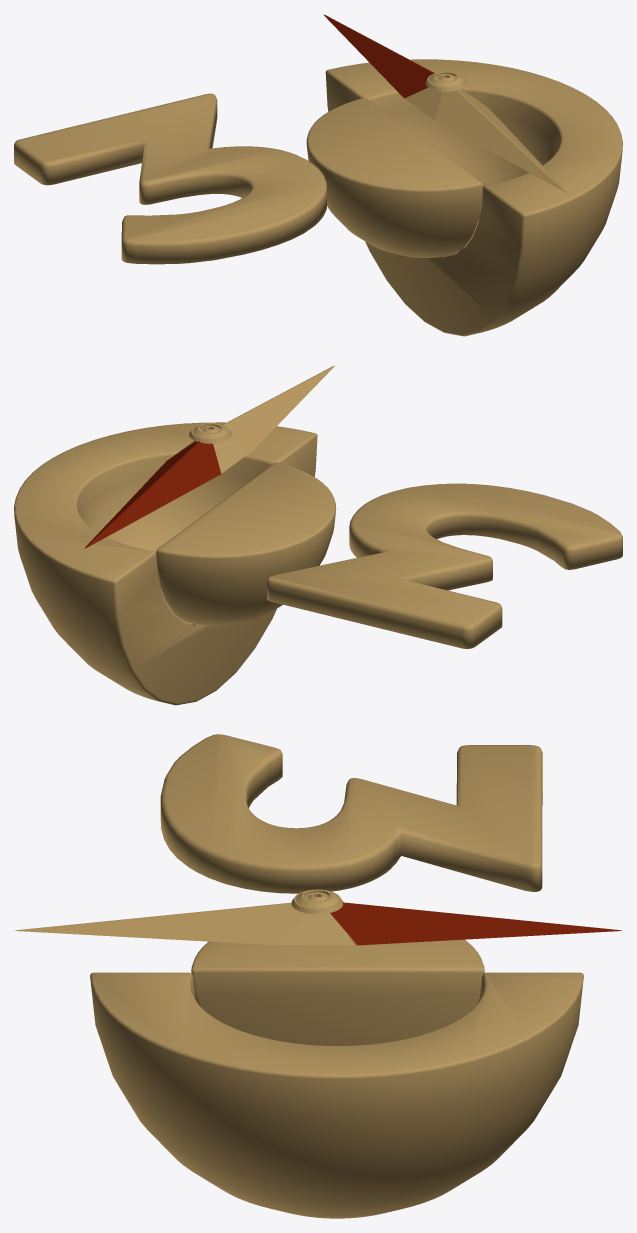
File: compass-anime.gltf
3 views of the same model, one above another, from view 1: azimuth 30°, elevation 25°; view 2: azimuth 150°, elevation 25°; view 3: azimuth 270°, elevation 25° (orthographic). The views are drawn at different scales.
Parts seen in each view (by area): view 1: Curve.004, Curve.007, Sphere.001, Plane.001; view 2: Curve.004, Curve.007, Sphere.001, Plane.001; view 3: Curve.004, Curve.007, Sphere.001, Plane.001.
Part boxes in pixels (left/top/right/bottom): Curve.004: left=325, top=59, right=622, bottom=336; Curve.007: left=14, top=93, right=326, bottom=264; Sphere.001: left=306, top=98, right=482, bottom=257; Plane.001: left=324, top=14, right=568, bottom=193; Curve.004: left=14, top=422, right=317, bottom=705; Curve.007: left=267, top=483, right=622, bottom=648; Sphere.001: left=156, top=462, right=336, bottom=625; Plane.001: left=84, top=365, right=334, bottom=548; Curve.004: left=90, top=972, right=583, bottom=1218; Curve.007: left=160, top=734, right=542, bottom=893; Sphere.001: left=191, top=939, right=484, bottom=1045; Plane.001: left=15, top=889, right=621, bottom=945.
Size of the model in its own units: 2.45 by 1.12 by 2.
